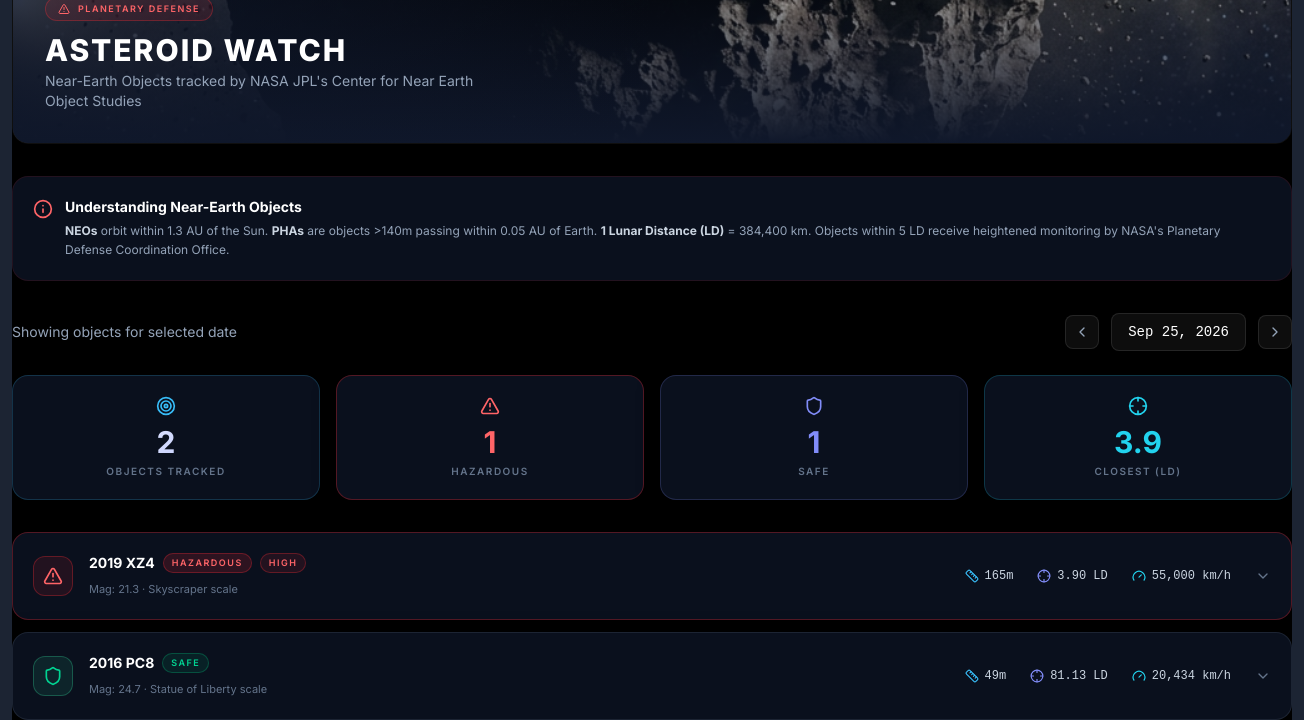
Test: AsteroidWatch › expands asteroid detail on click
(page scrolled)
Expected: the text "2016 PC8" is shown, [89,653,154,673]
Click to expand — use fireEvent.click for synchronous state update
Click the button with aria-label "asteroid".
click(53, 576)  # box [12,532,1292,620]
(page scrolled)
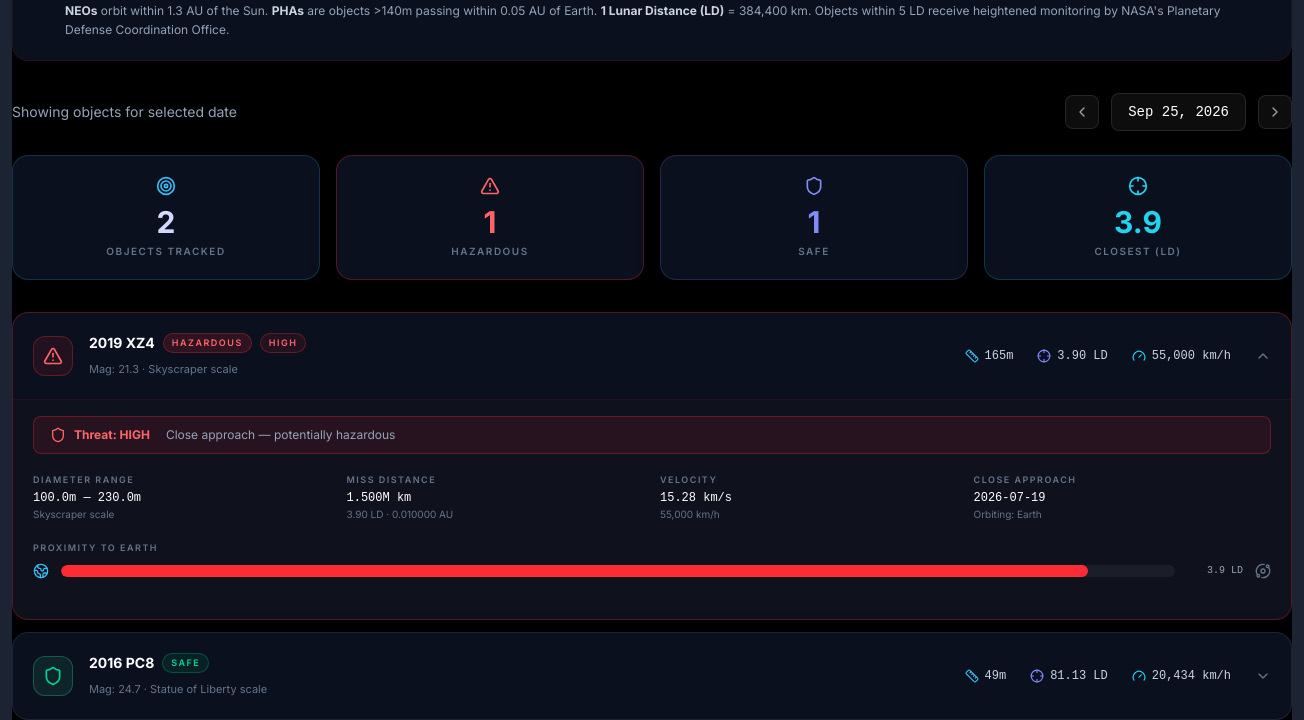
Expected: the button with aria-label "asteroid" is expanded
Click again to collapse
Click the button with aria-label "asteroid".
click(652, 466)  # box [12,312,1292,620]
(page scrolled)
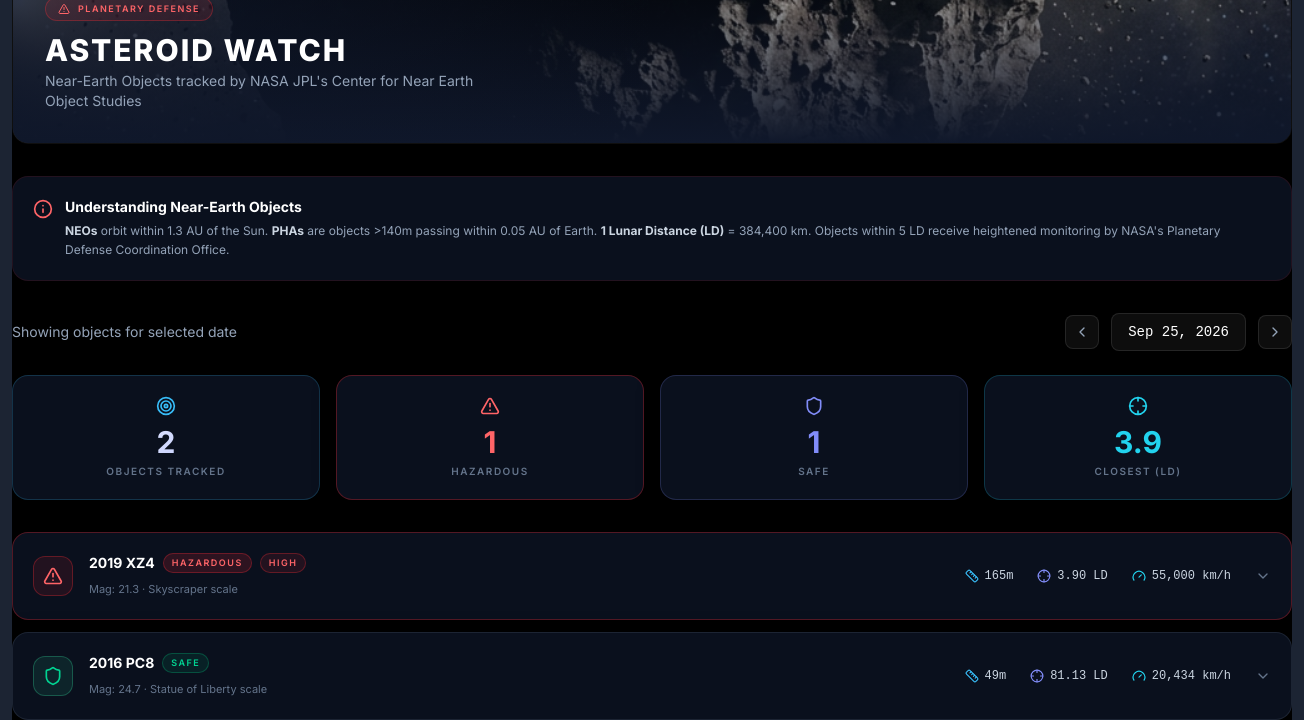
Expected: the button with aria-label "asteroid" is collapsed, [12,532,1292,620]
